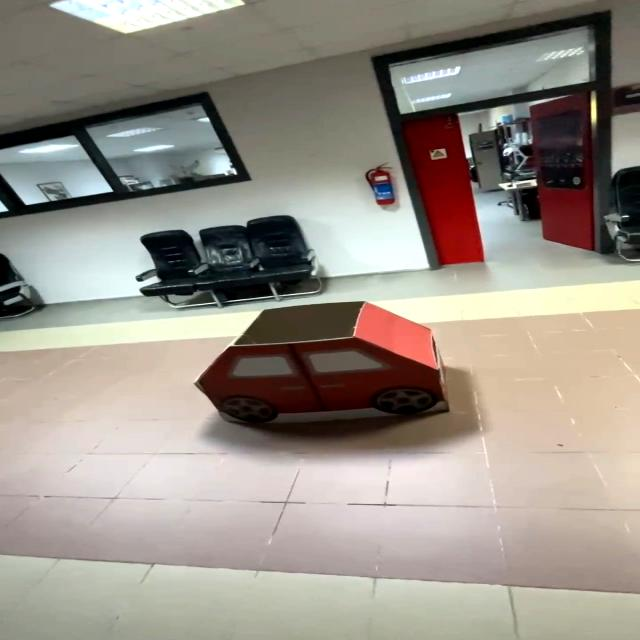red_car: (116, 289, 471, 422)
